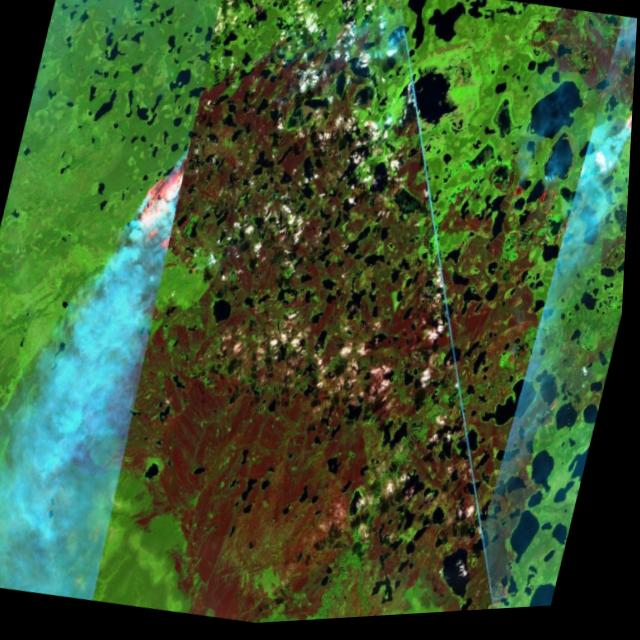fire: (122, 130, 201, 269), (619, 91, 635, 150)
